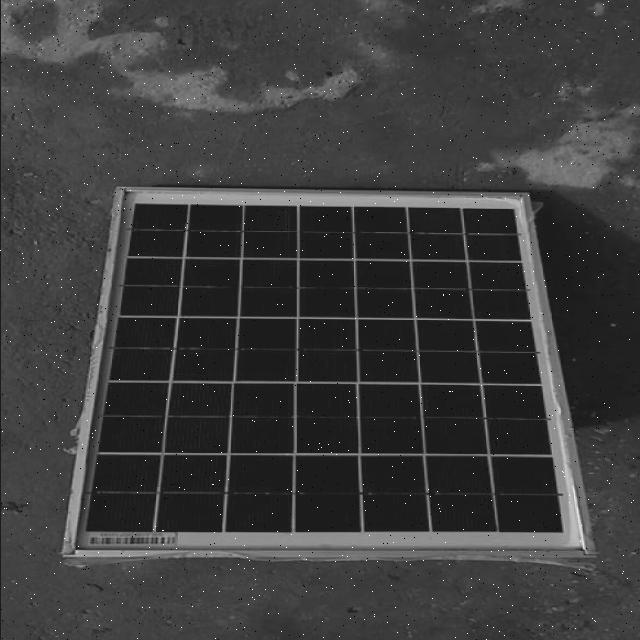Normal Solar Panel: (62, 186, 594, 563)
